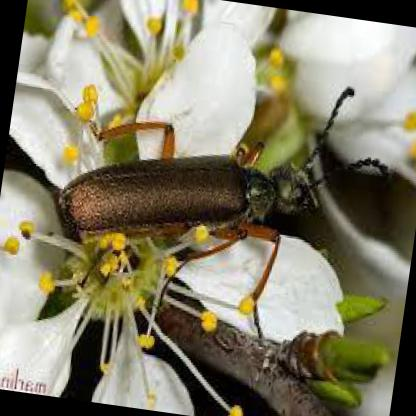blister beetle: (58, 87, 385, 248)
